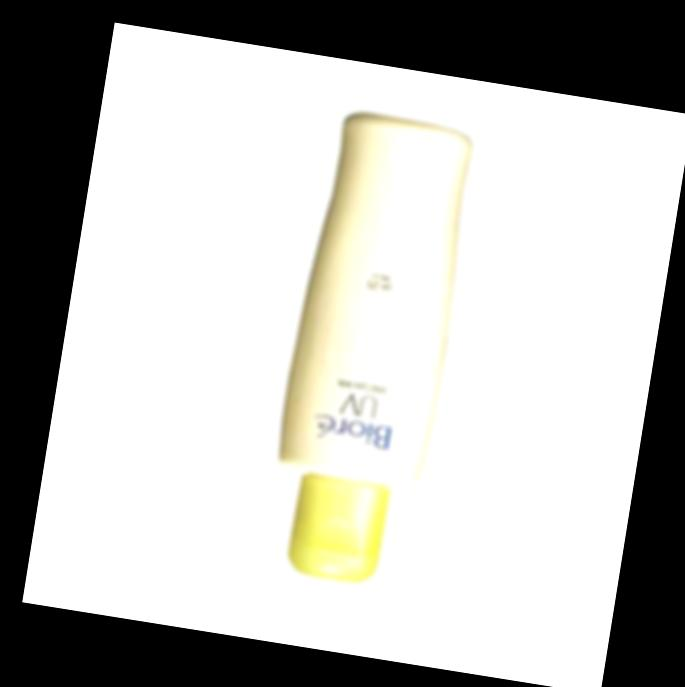cosmetic: (257, 107, 480, 596)
